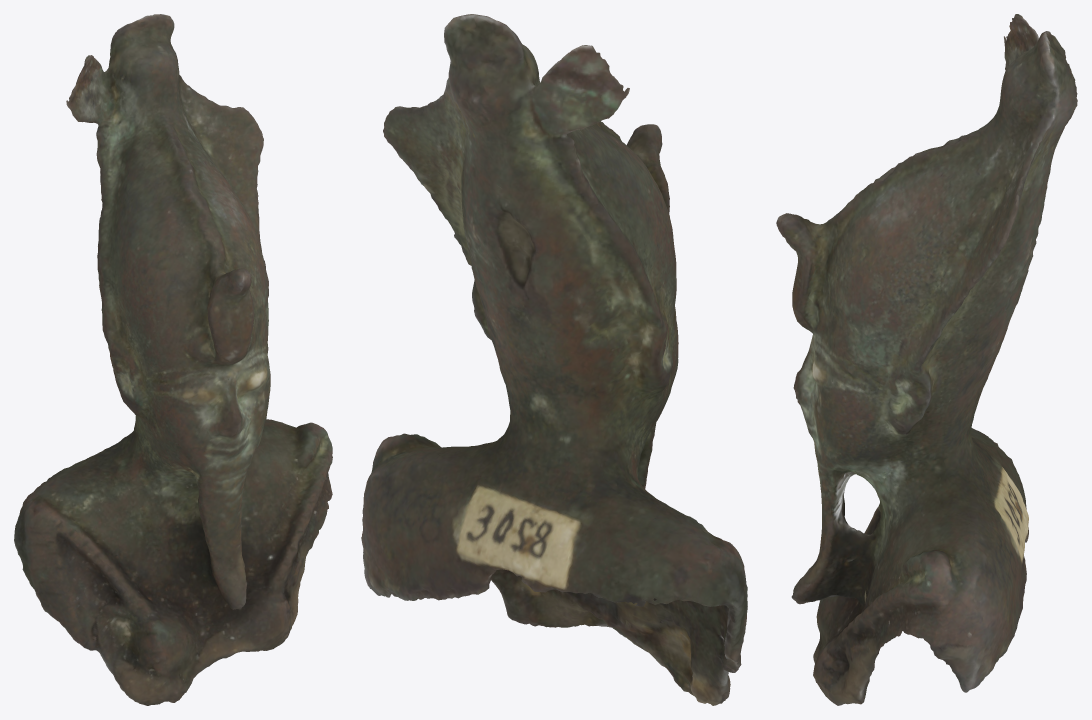
File: osiris.glb
3 renders of one model, left to right at view 1: azimuth 30°, elevation 25°; view 2: azimuth 150°, elevation 25°; view 3: azimuth 270°, elevation 25°, orthographic. The views are drawn at different scales.
Visible parts, largest first — view 1: mat-0; view 2: mat-0; view 3: mat-0.
Part boxes in pixels (bbox=[...]): mat-0: bbox=[14, 14, 332, 705]; mat-0: bbox=[361, 14, 747, 705]; mat-0: bbox=[776, 14, 1077, 705].
Size of the model in its own units: 2.64 by 4.95 by 2.
Materials: 1 (1 with a texture image).
